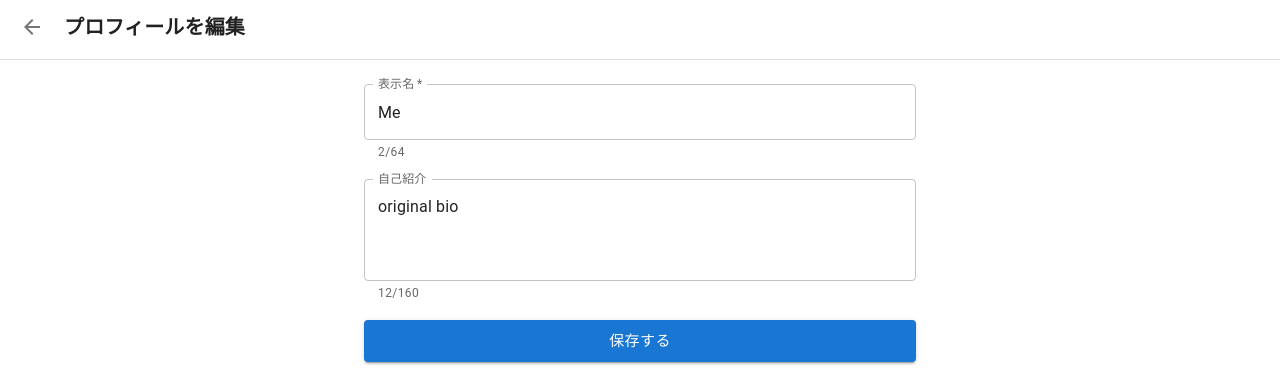
Scenario: ProfileEditPage › disables submit when display name is blank
Clear the field showing "Me": [640, 112] box [364,84,916,140]
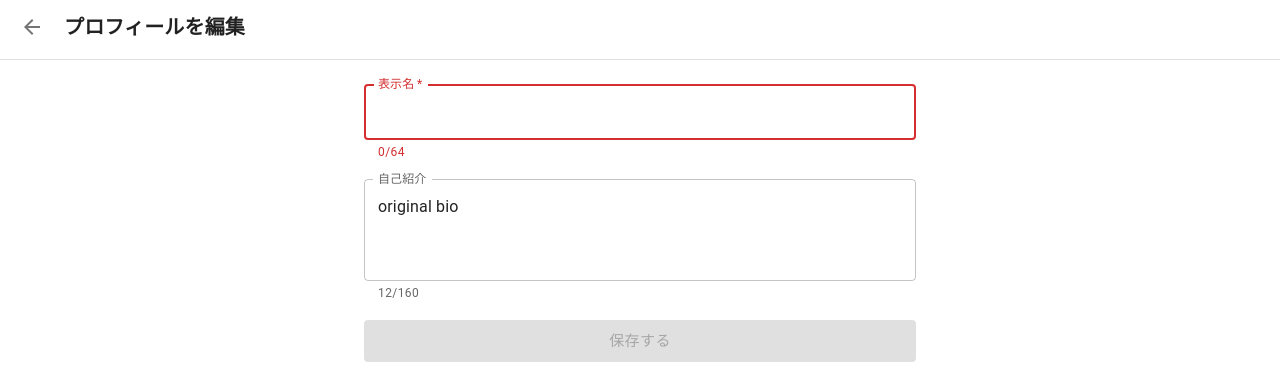
Expected: the button "保存する" is disabled, [364,320,916,362]
